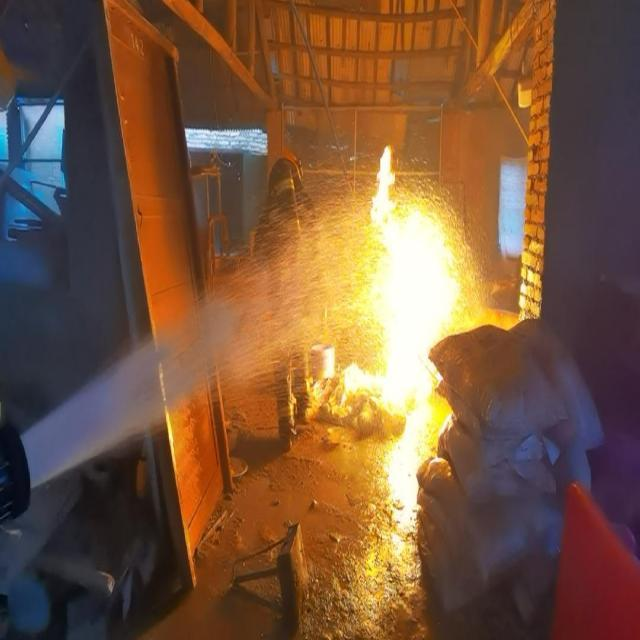Fire: (342, 147, 464, 416)
